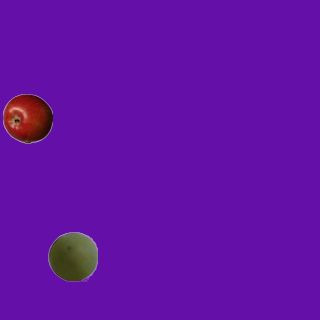Apple Braeburn: (2, 93, 52, 143)
Grape White 4: (47, 231, 97, 281)
